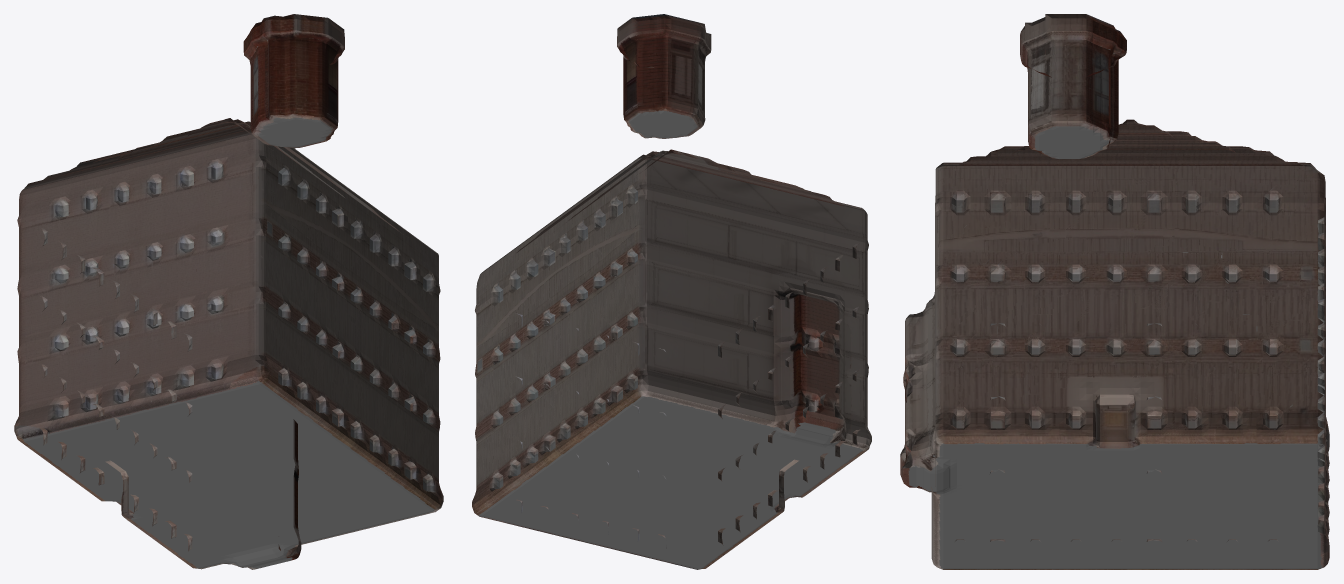
File: bake_building.glb
3 renders of one model, left to right at view 1: azimuth 30°, elevation 25°; view 2: azimuth 150°, elevation 25°; view 3: azimuth 270°, elevation 25°, orthographic. The views are drawn at different scales.
Parts seen in each view (by area): view 1: world; view 2: world; view 3: world.
Boxes of the visible parts, left/top/right/bottom form: world: left=14, top=14, right=443, bottom=569; world: left=472, top=14, right=871, bottom=569; world: left=900, top=14, right=1329, bottom=569.
Size of the model in its own units: 0.9787 by 1.7 by 1.33.
1 material, 1 textured.
